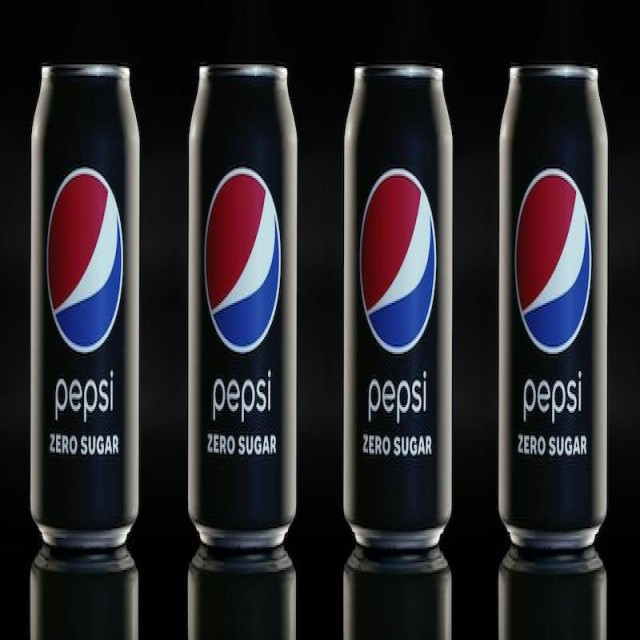pepsi: (511, 168, 599, 360), (361, 175, 444, 361), (205, 163, 284, 356), (47, 172, 127, 357)
